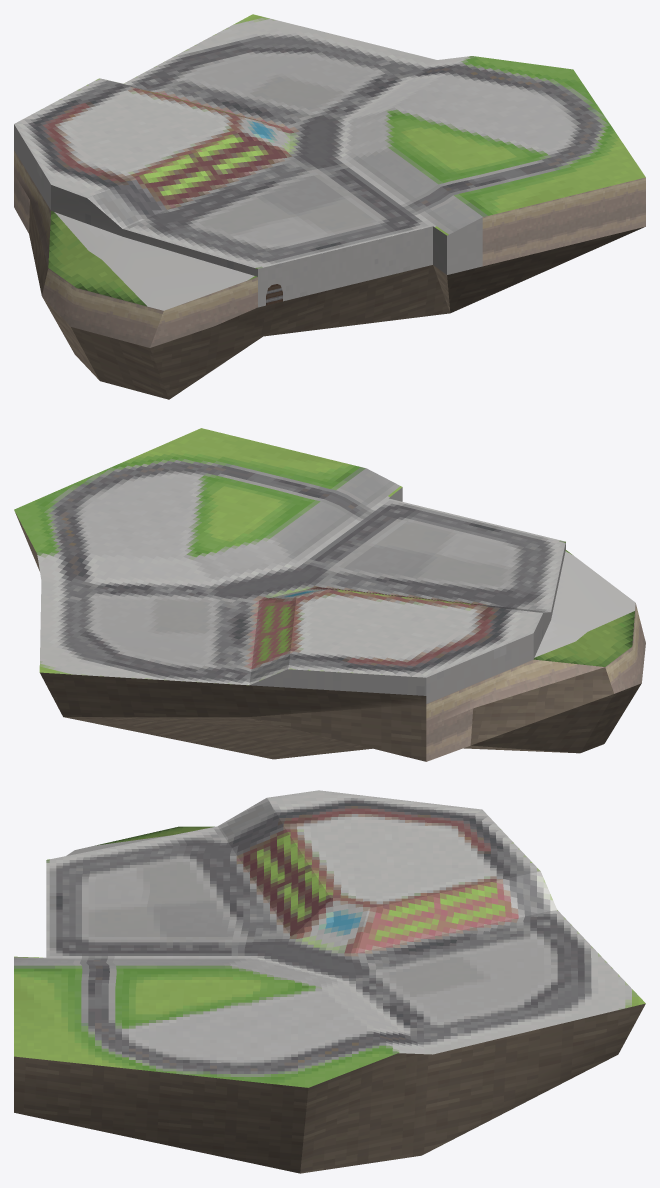
The model's file is 059c_Old_Saltville.glb.
The picture shows the model from 3 angles, top to bottom: view 1: azimuth 30°, elevation 25°; view 2: azimuth 150°, elevation 25°; view 3: azimuth 270°, elevation 25°; orthographic projection. The views are drawn at different scales.
Visible parts, largest first — view 1: part_0; view 2: part_0; view 3: part_0.
Boxes of the visible parts, x1,y1,x2,y2 form: part_0: (14,14,645,399); part_0: (14,428,645,761); part_0: (14,790,645,1173).
Size of the model in its own units: 131 by 40.8 by 111.
1 material, 1 textured.
